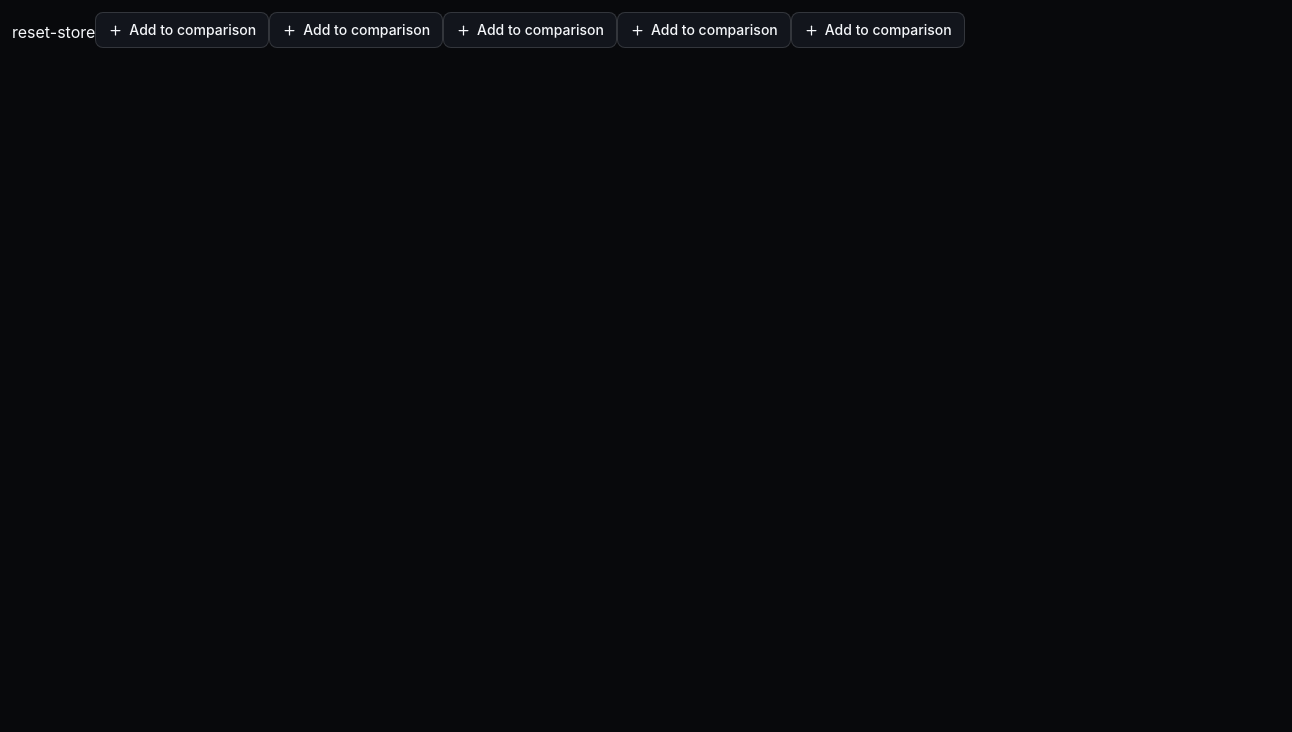
Test: comparison toggle and tray › caps the selection at four and disables the rest with an explanation
Click the 1st button "Add to comparison" at (182, 30), box x1=95 y1=12 x2=269 y2=48
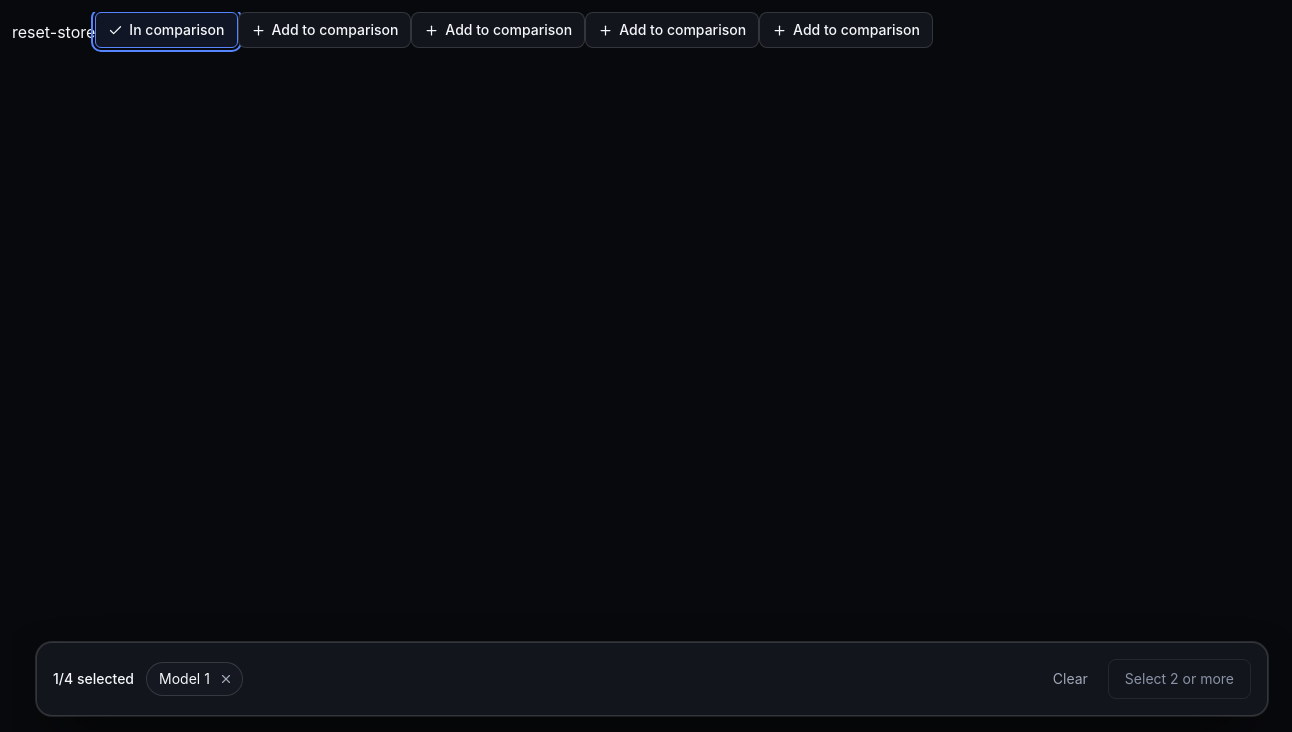
Click the 1st button "Add to comparison" at (324, 30), box x1=238 y1=12 x2=411 y2=48
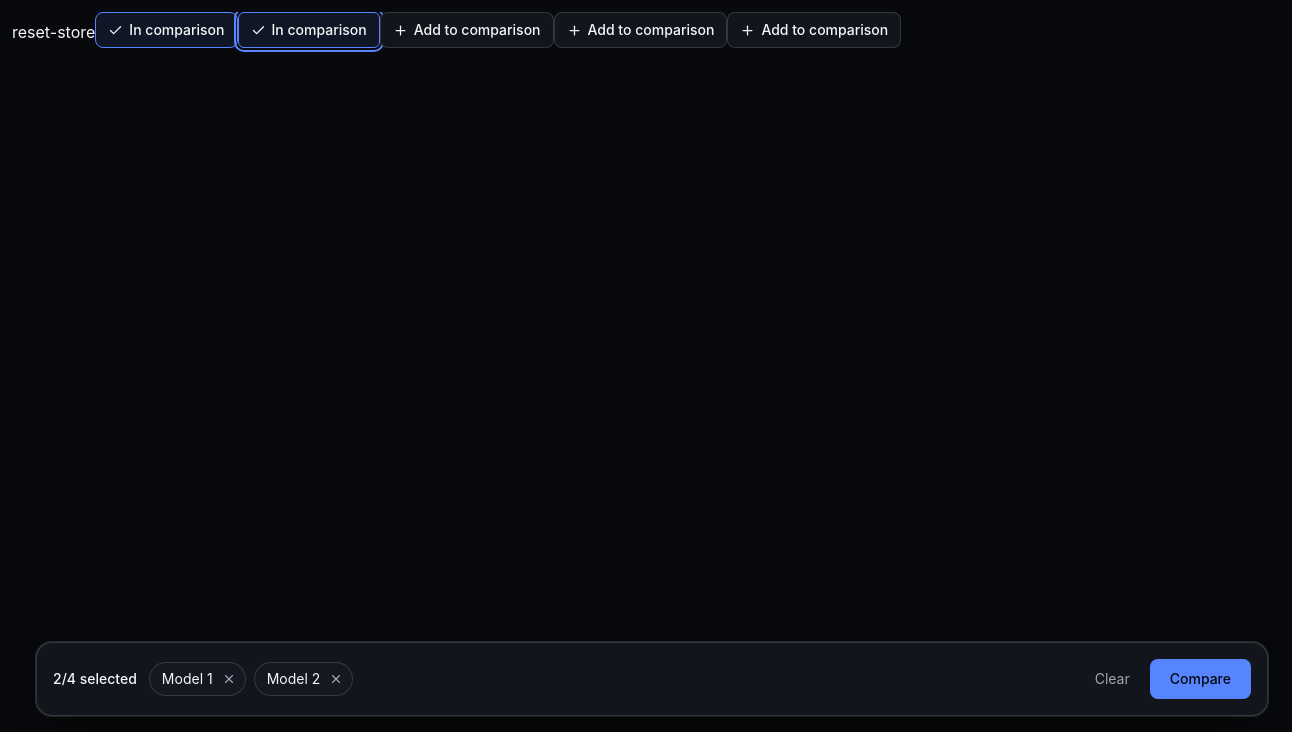
Click the 1st button "Add to comparison" at (467, 30), box x1=380 y1=12 x2=554 y2=48
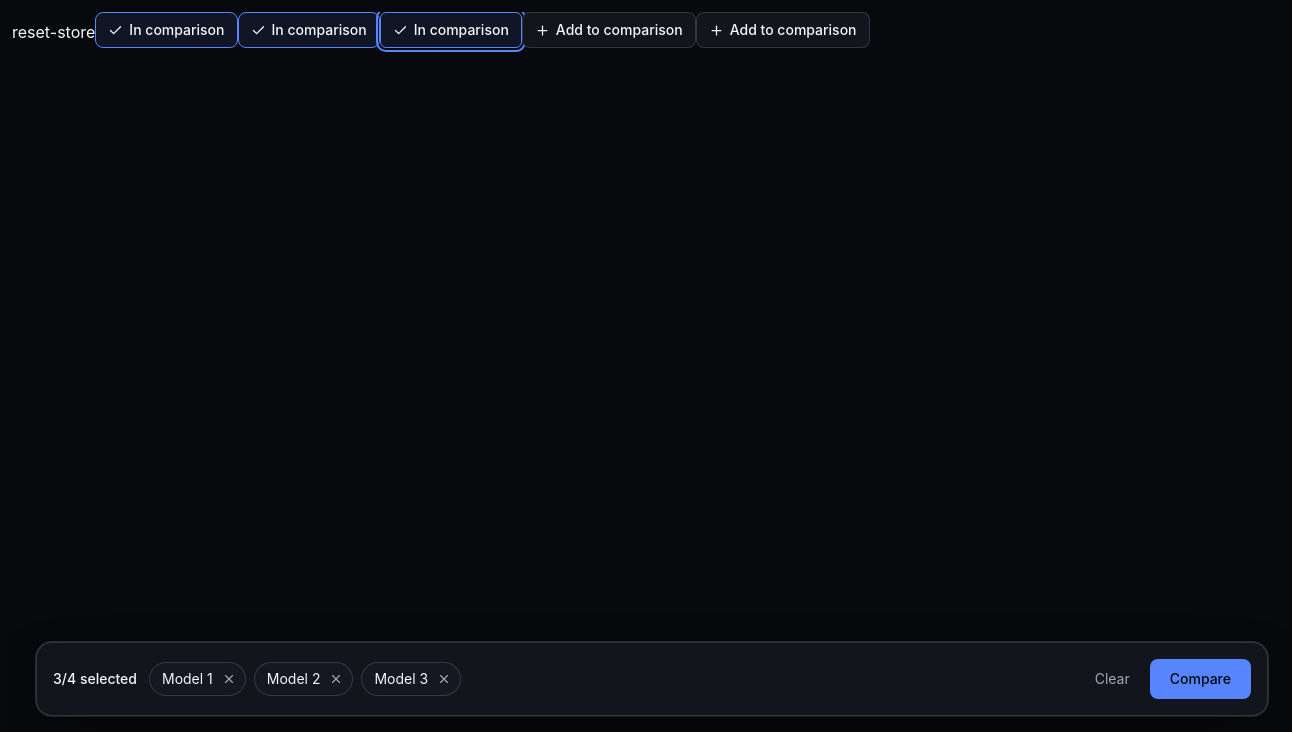
Click the 1st button "Add to comparison" at (609, 30), box x1=522 y1=12 x2=696 y2=48
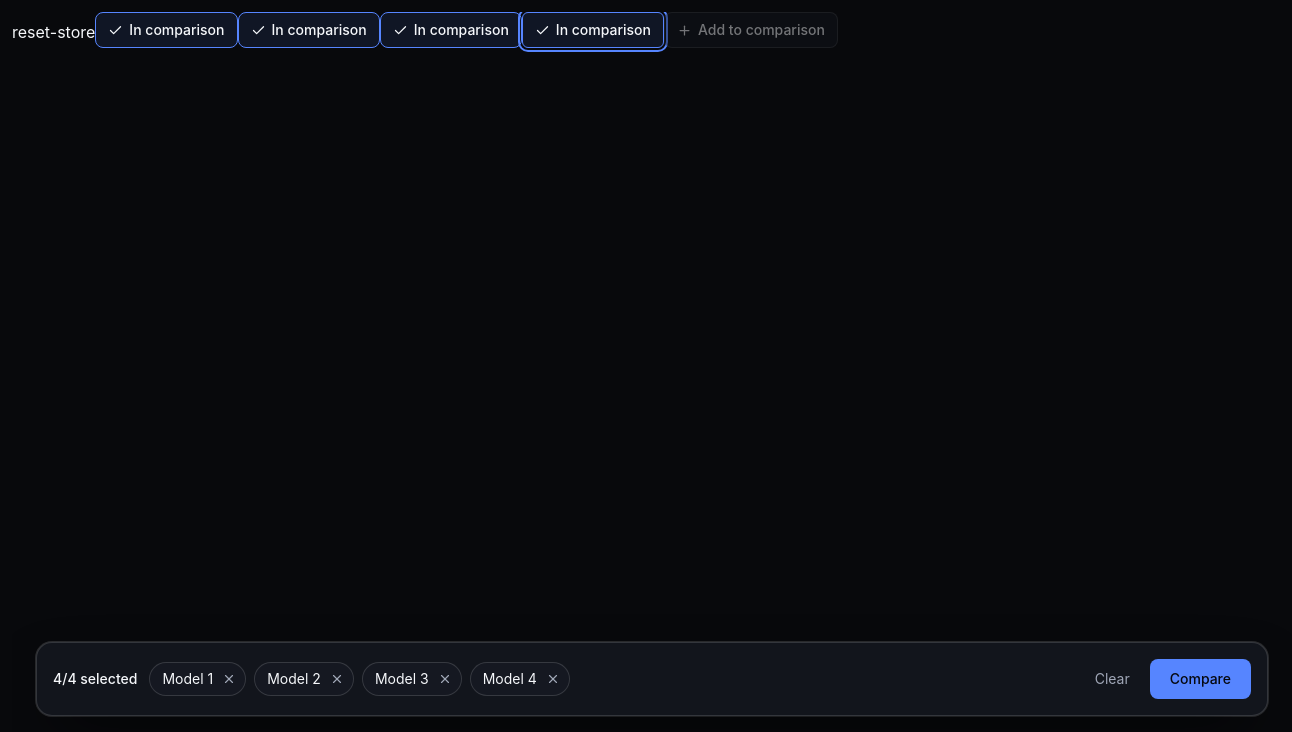
expect the number of buttons "In comparison" is 4: met, box x1=95 y1=12 x2=238 y2=48; x1=238 y1=12 x2=380 y2=48; x1=380 y1=12 x2=522 y2=48; x1=522 y1=12 x2=664 y2=48
expect the button "Add to comparison" is disabled: met, box x1=664 y1=12 x2=838 y2=48
